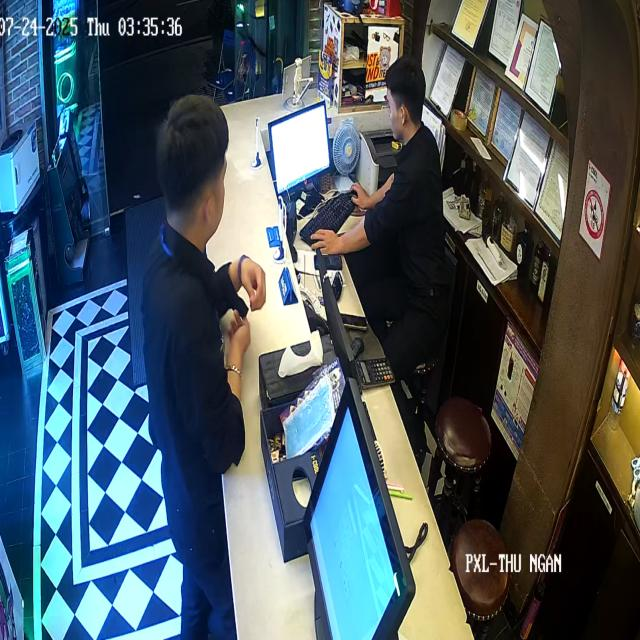nhan vien: (142, 90, 256, 640), (309, 42, 455, 362)
